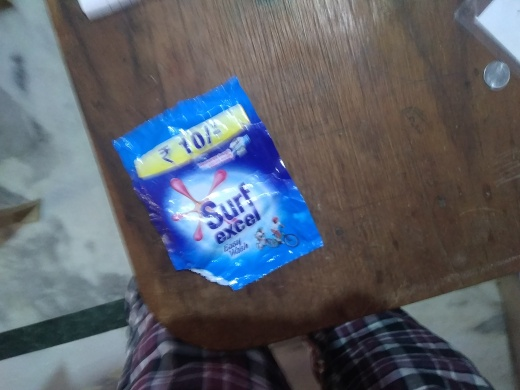surf: (94, 79, 330, 301)
